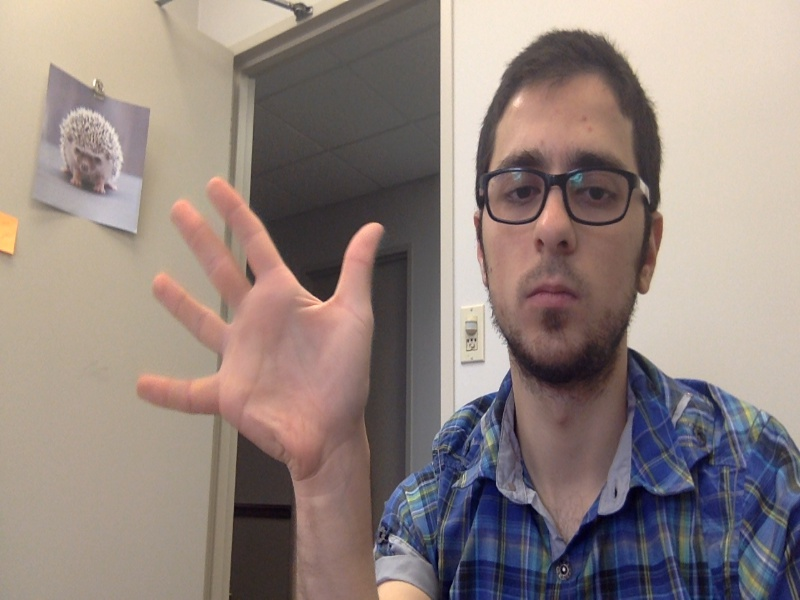5-hand: (135, 174, 385, 485)
